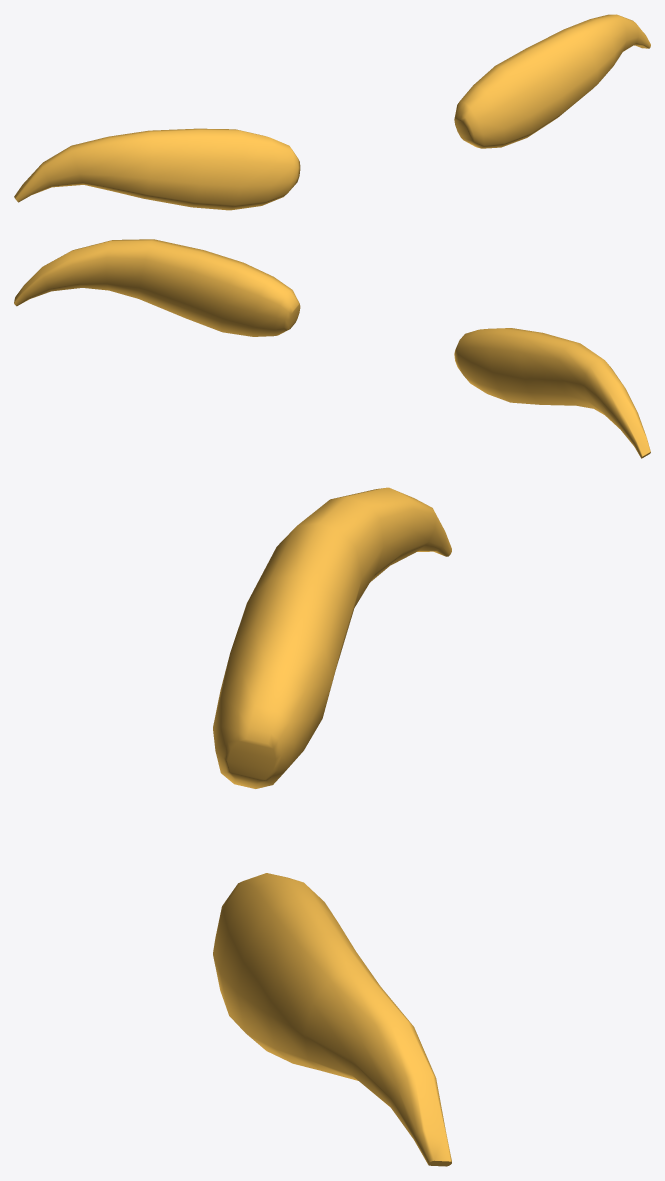
The model's file is Eyebrows_23_05.fbx.
3 renders of one model, top to bottom at view 1: azimuth 30°, elevation 25°; view 2: azimuth 150°, elevation 25°; view 3: azimuth 270°, elevation 25°, orthographic. The views are drawn at different scales.
Parts seen in each view (by area): view 1: Eyebrows_23_05; view 2: Eyebrows_23_05; view 3: Eyebrows_23_05.
Boxes of the visible parts, x1,y1,x2,y2 form: Eyebrows_23_05: (14, 14, 650, 210); Eyebrows_23_05: (14, 239, 650, 458); Eyebrows_23_05: (213, 487, 451, 1166).
Bounding box in the file's own units: 19.19 × 2.4 × 3.13.
